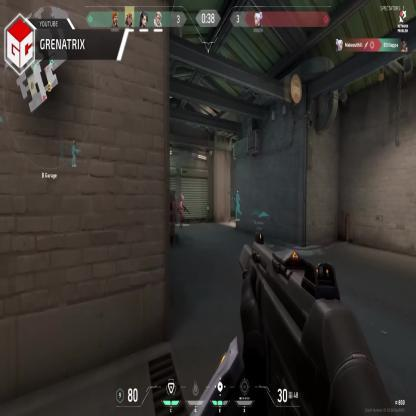enemy: (178, 194, 185, 228)
